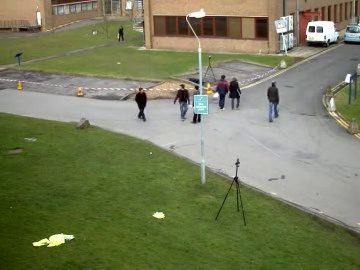person: (174, 83, 191, 121), (131, 86, 147, 121)
